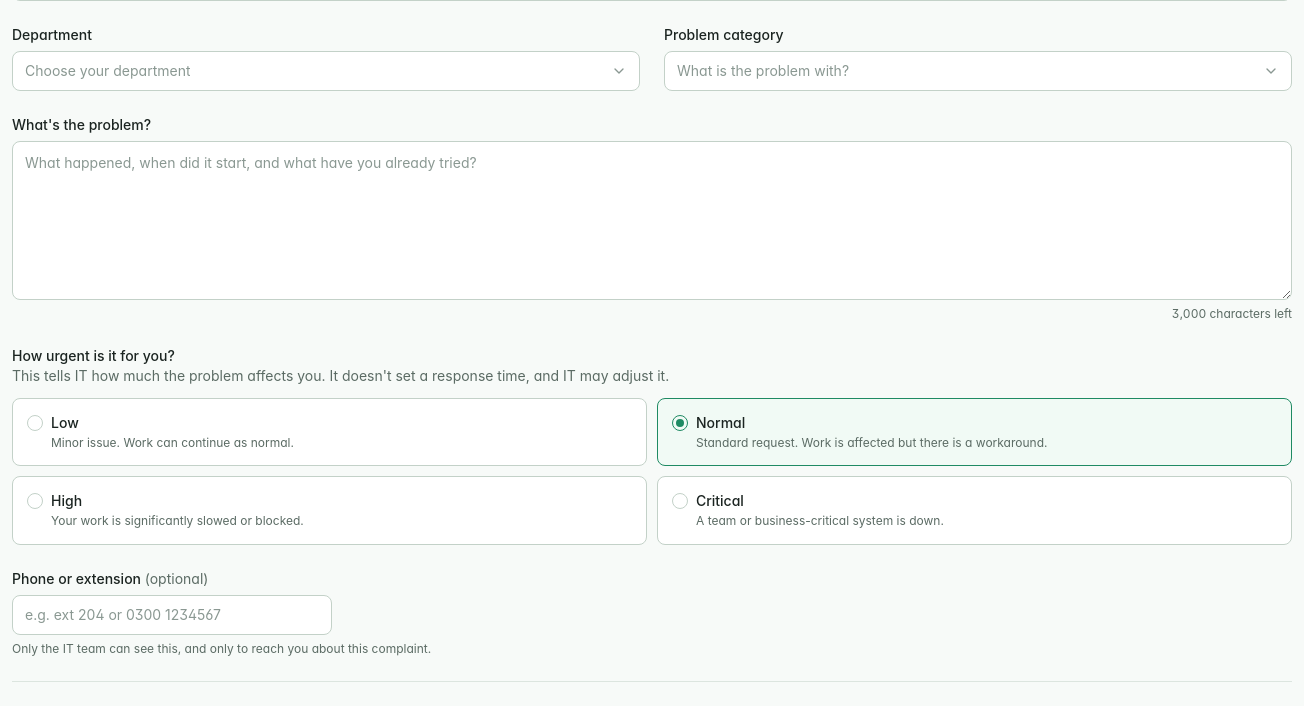
Test: ComplaintForm › rejects a malformed contact number before submitting
Type "abc" into the field labelled "Phone or extension (optional)" at (172, 614), box 12,594 -> 332,634
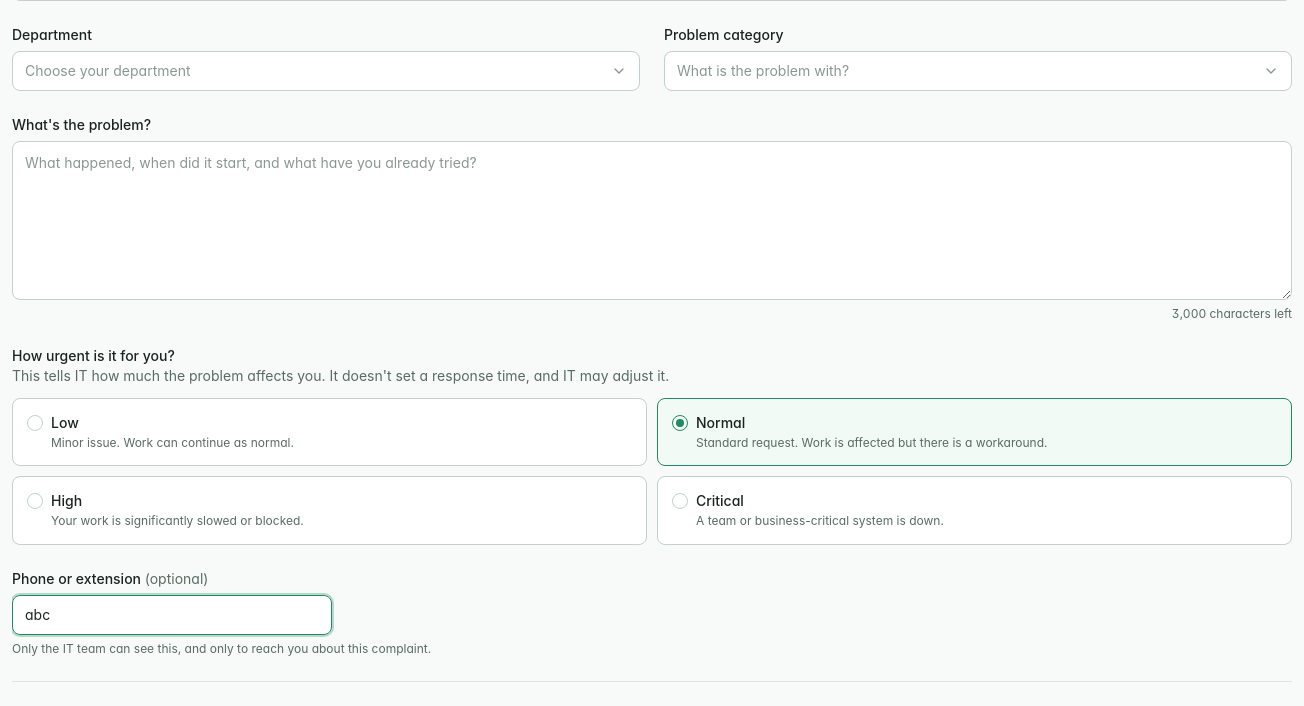
Press Tab
(page scrolled)
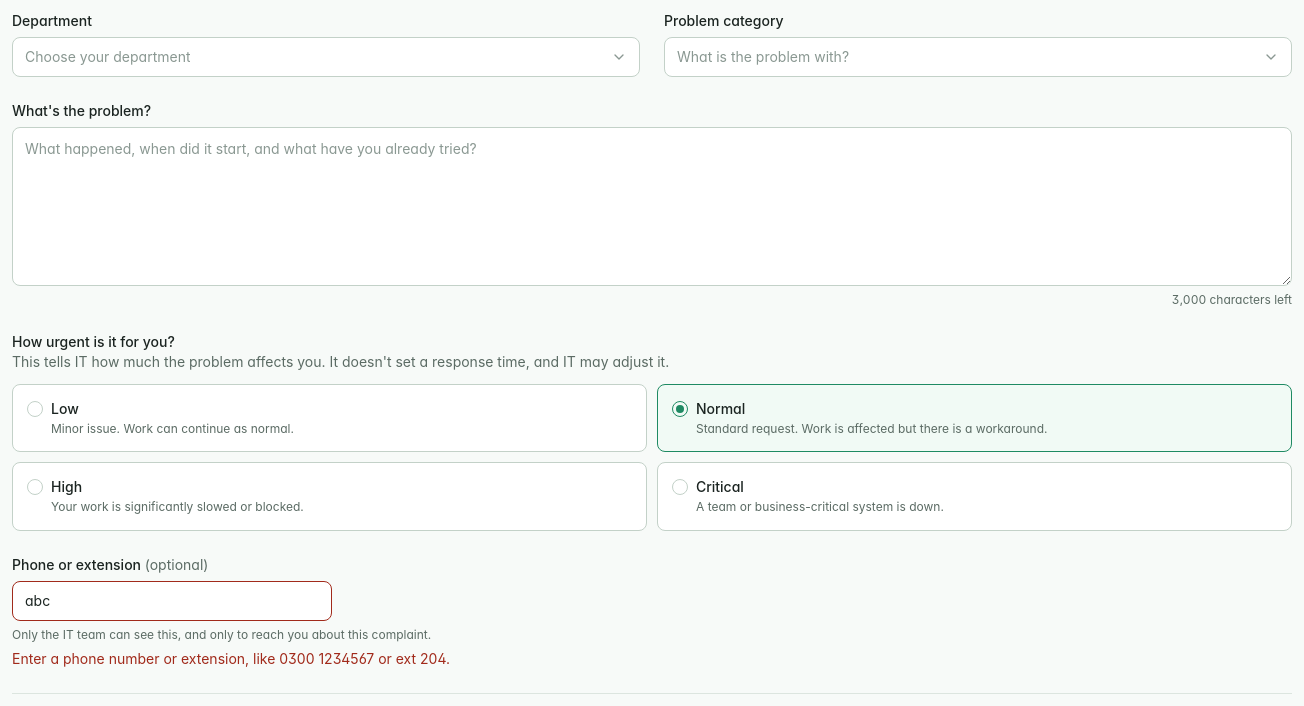
Result: the text "Enter a phone number or extension, like 0300 1234567 or ext 204." is shown at 12,650 -> 450,666
